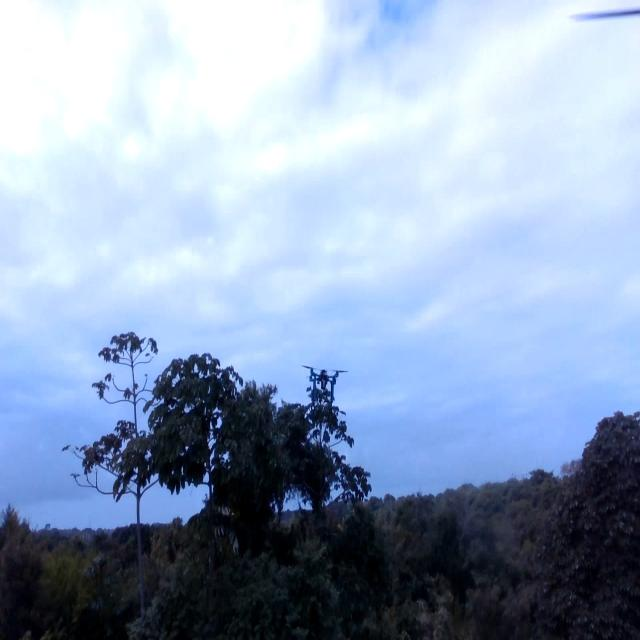-uav-: (298, 354, 347, 409)
